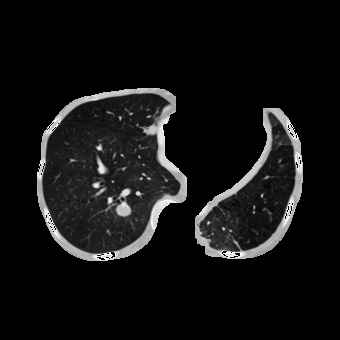PN: (116, 203, 130, 217)
